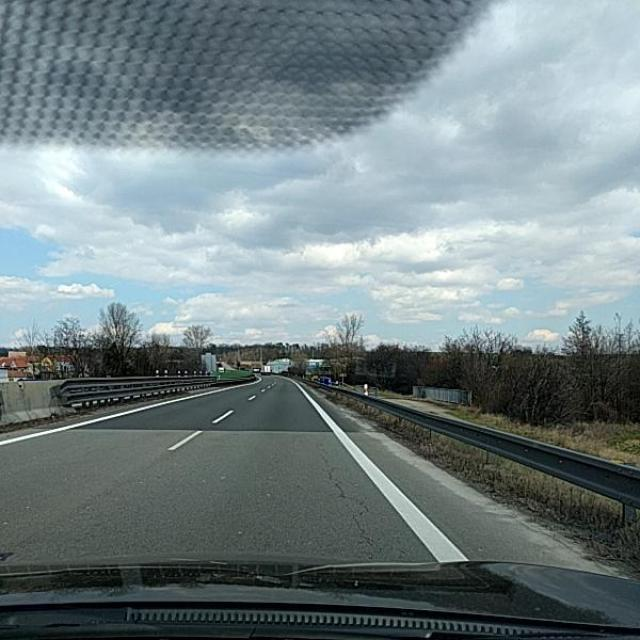Crack: (252, 390, 438, 556)
